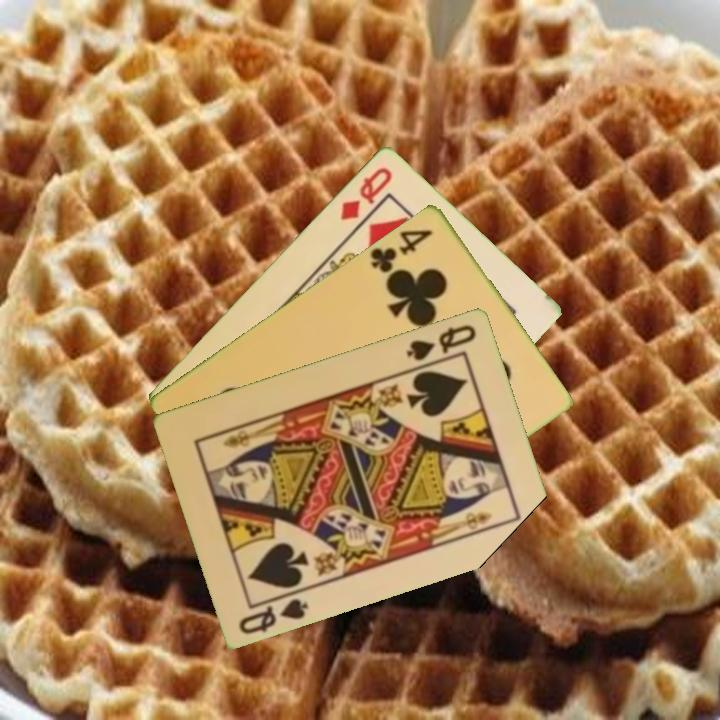4c: (366, 225, 436, 280)
Qd: (336, 162, 395, 223)
Qs: (235, 594, 312, 637), (403, 320, 479, 363)
